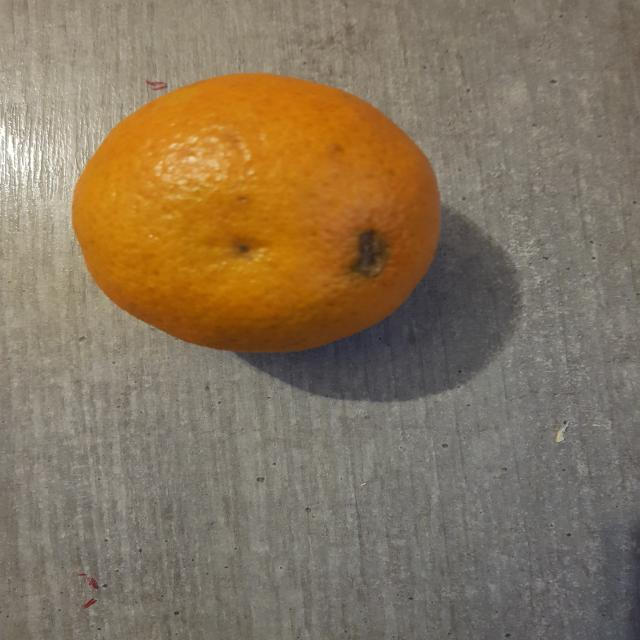Orange: (70, 74, 442, 357)
